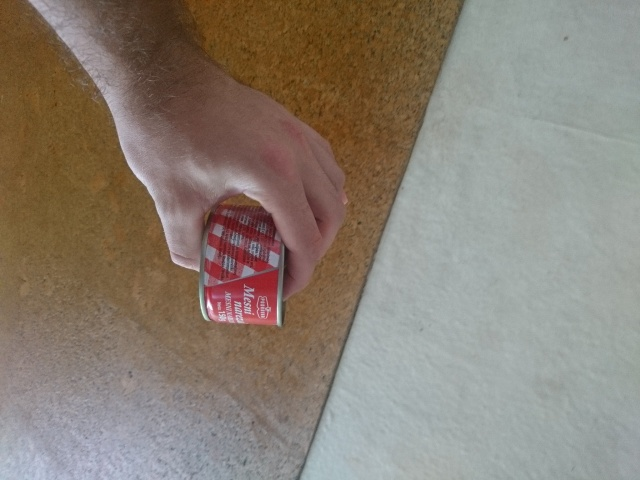Podravka Luncheon Meat 150g: (195, 200, 291, 330)
